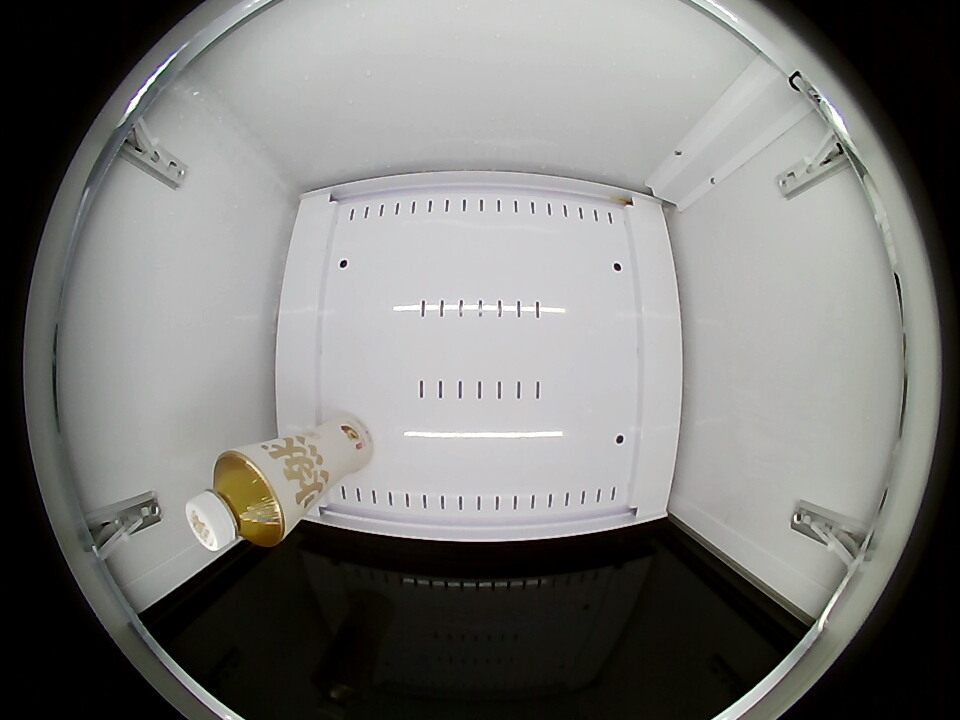rancha-2: (186, 449, 289, 552)
